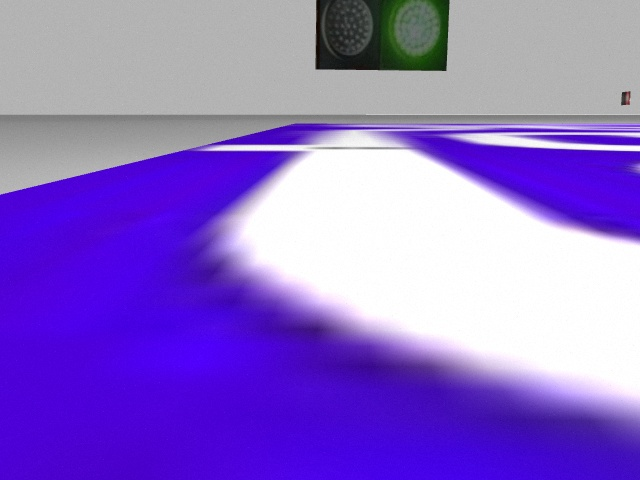green: (379, 1, 450, 74)
